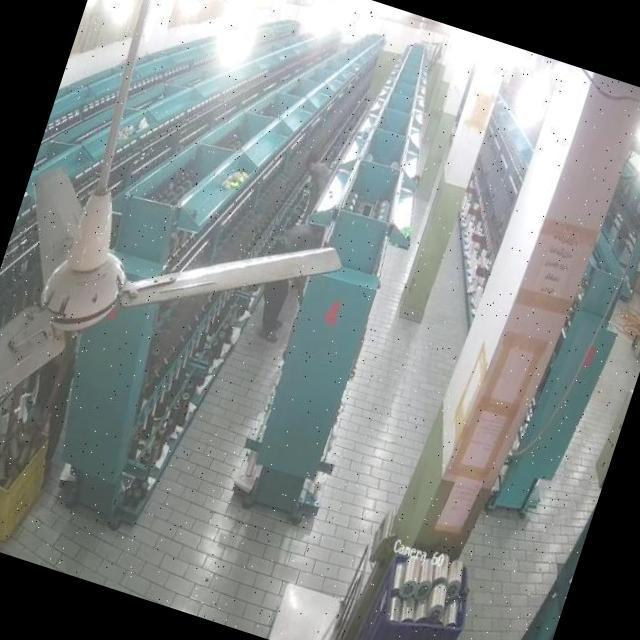person: (264, 215, 326, 276), (294, 143, 336, 206)
